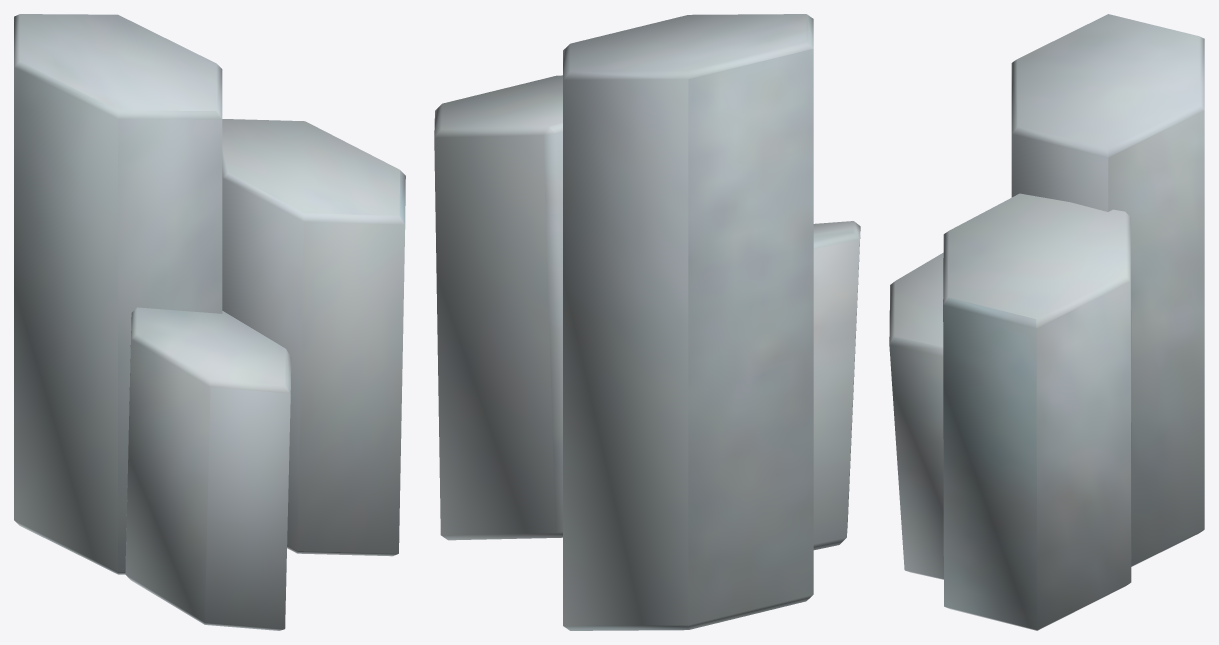
File: P_RockHexic_RockSlanted01.obj
The picture shows the model from 3 angles, left to right: view 1: azimuth 30°, elevation 25°; view 2: azimuth 150°, elevation 25°; view 3: azimuth 270°, elevation 25°; orthographic projection. The views are drawn at different scales.
Bounding box in the file's own units: 8.04 × 11.5 × 6.71.
